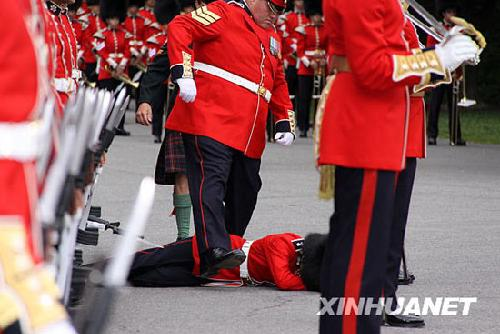10+: (2, 2, 497, 331)
down: (83, 218, 344, 293)
